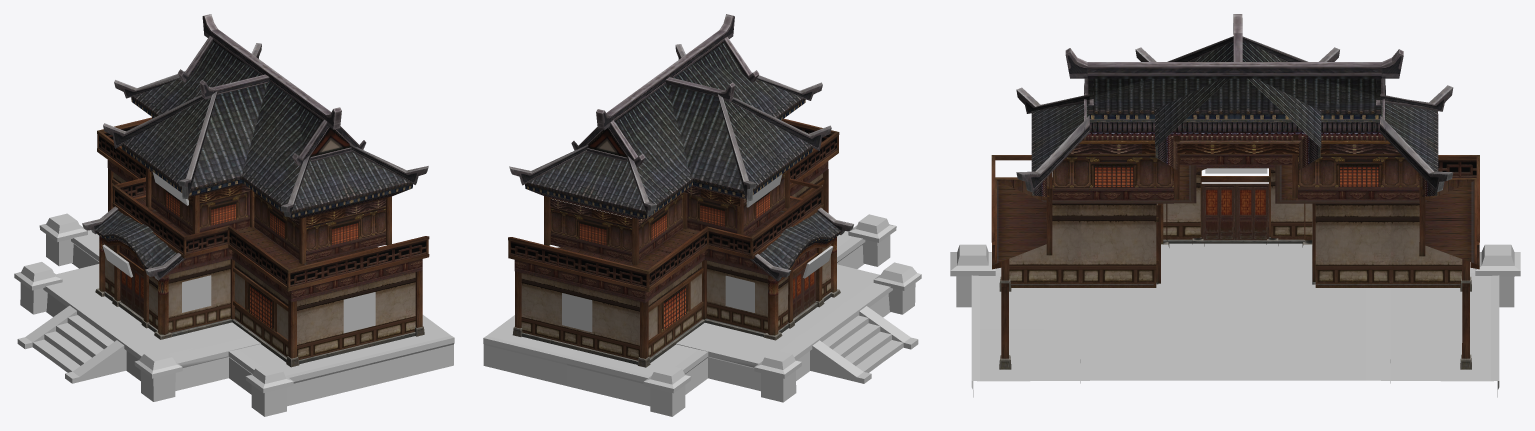
Rendered from s7_3d_city_bingying_03_uv.FBX.
The picture shows the model from 3 angles, left to right: view 1: azimuth 30°, elevation 25°; view 2: azimuth 150°, elevation 25°; view 3: azimuth 270°, elevation 25°; orthographic projection. The views are drawn at different scales.
Visible parts, largest first — view 1: 002, 003, 001; view 2: 002, 003, 001; view 3: 002, 003.
Part boxes in pixels (x1,y1,x2,y2): 002: (82, 14, 429, 367); 003: (14, 213, 454, 416); 001: (102, 172, 375, 333); 002: (508, 14, 853, 367); 003: (483, 214, 921, 416); 001: (562, 174, 833, 332); 002: (991, 14, 1479, 369); 003: (950, 243, 1520, 397).
Size of the model in its own units: 33.71 by 26.19 by 42.61.
